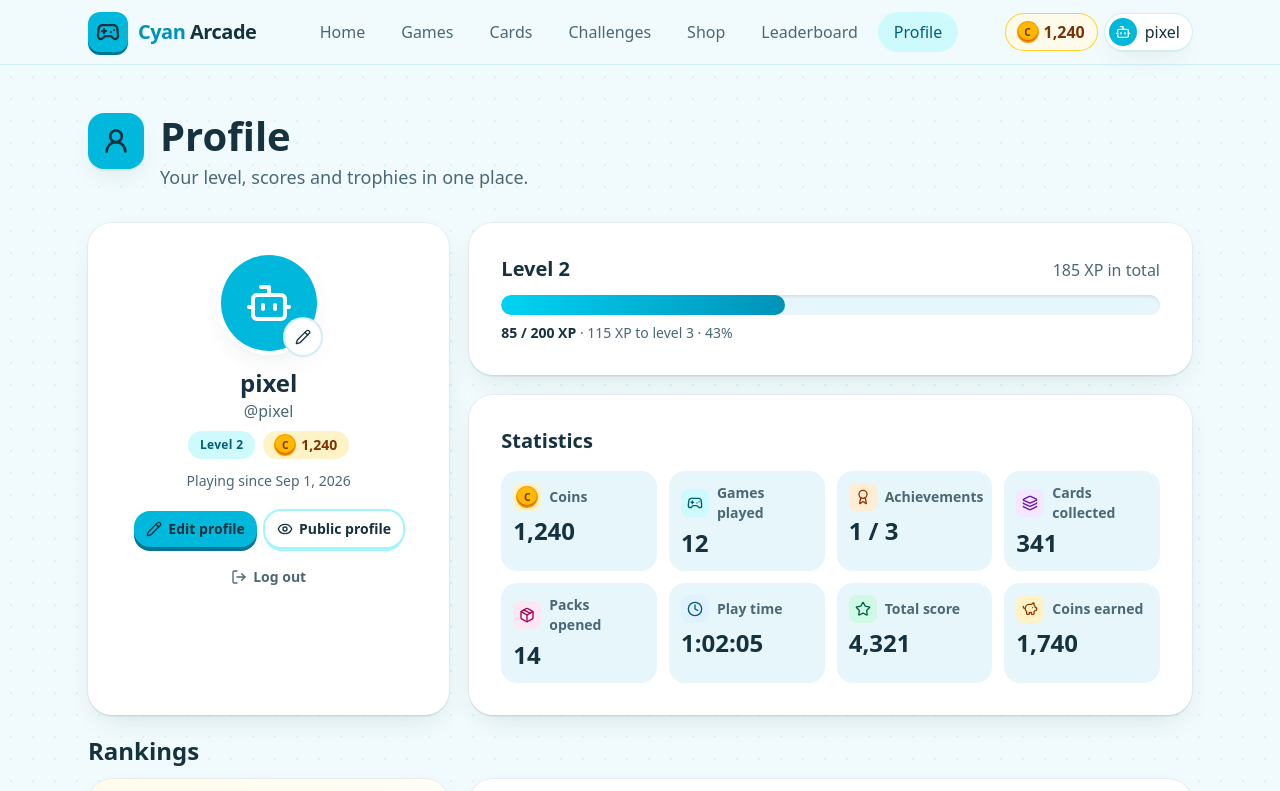
it: editing your profile › saves a new display name, bio and avatar, and the header follows
This screenshot has width=1280, height=791.
Click the button "Edit profile": (196, 529) x1=134 y1=511 x2=257 y2=547
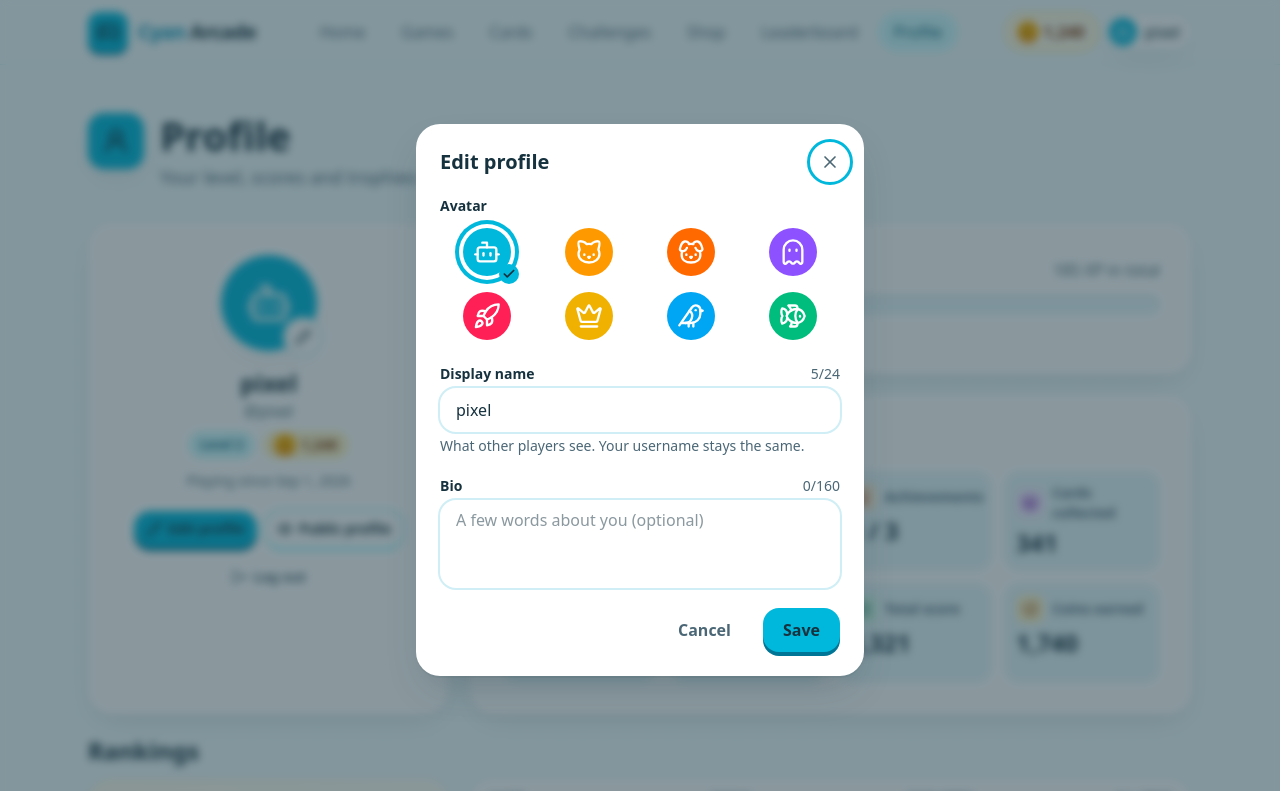
Expected: the field labelled "Display name 5/24" holds "pixel"
Replace the text in the field labelled "Display name 5/24" with "  Pixel   Pal ": (640, 410) x1=440 y1=388 x2=840 y2=432
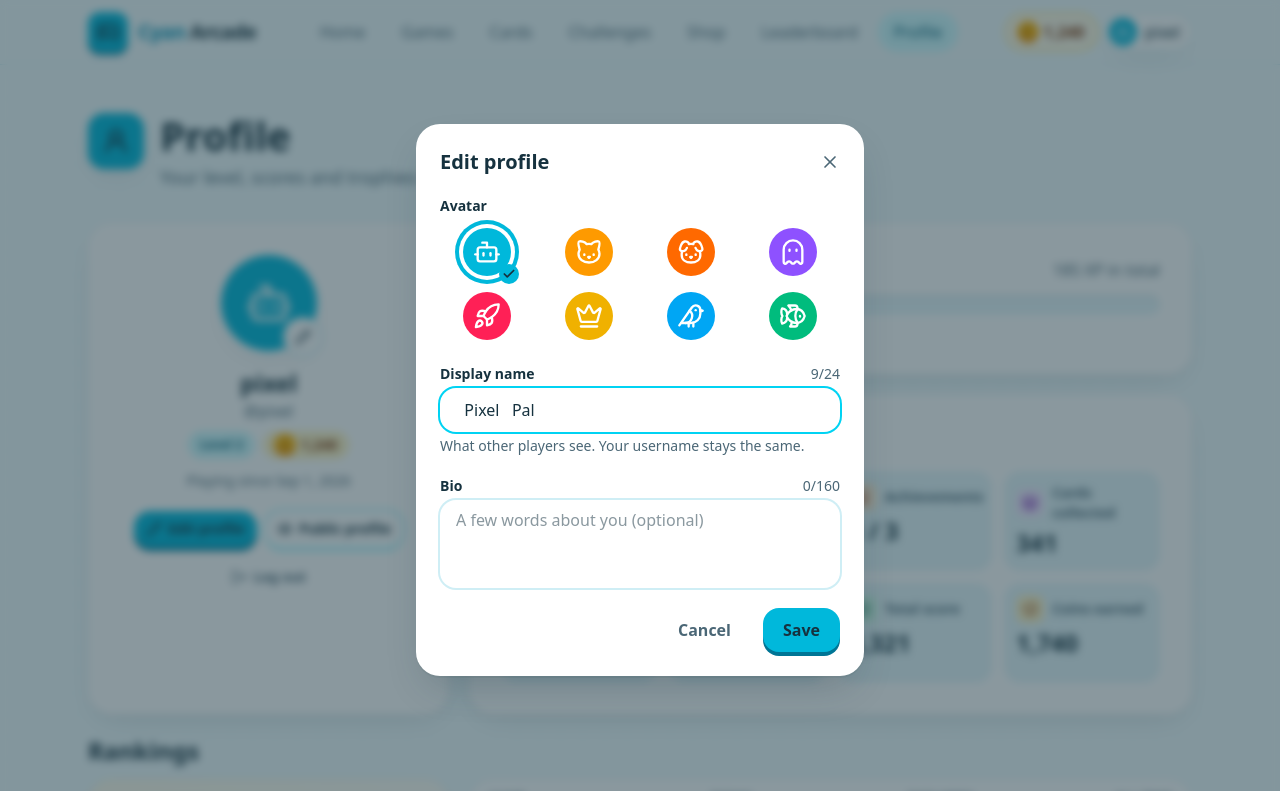
In the text box labelled "Bio 0/160": (640, 544) x1=440 y1=500 x2=840 y2=588, type "Java backend developer."
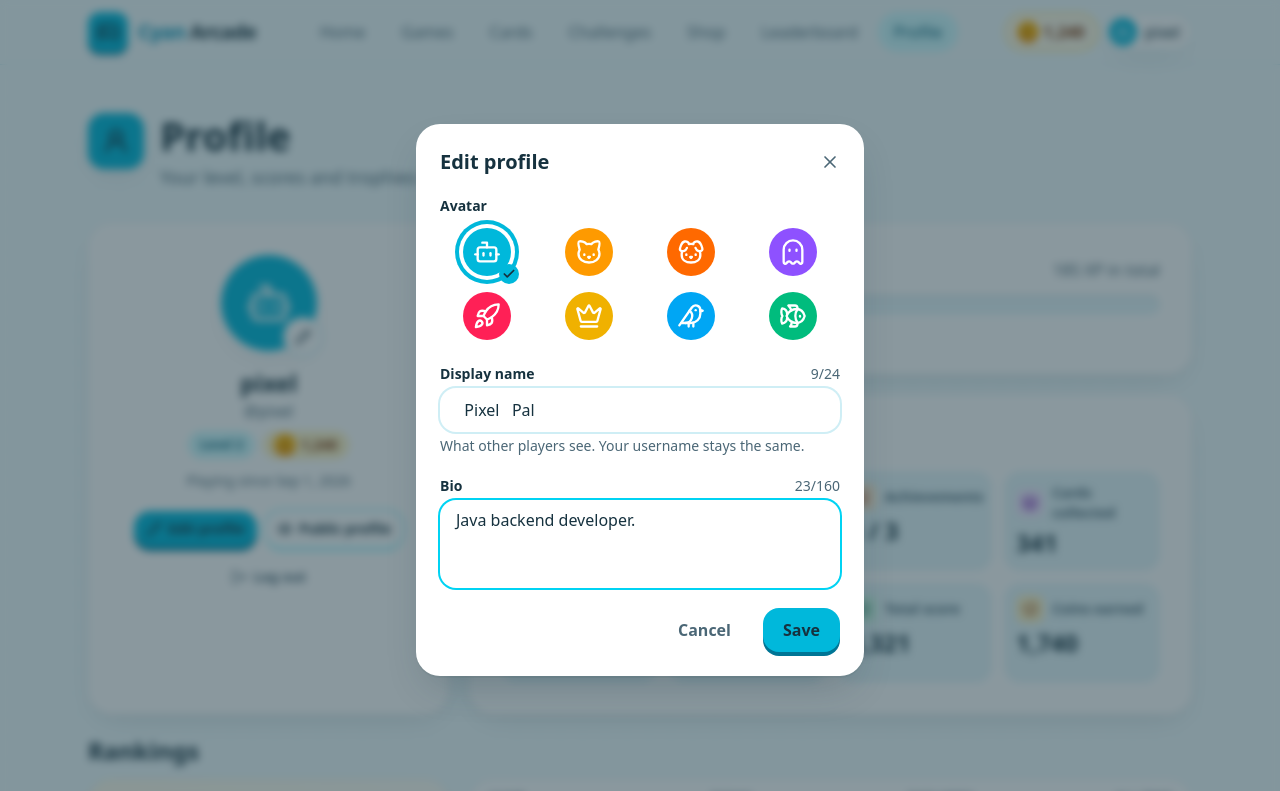
Click the button named "Ghost": (793, 252) x1=765 y1=224 x2=821 y2=280
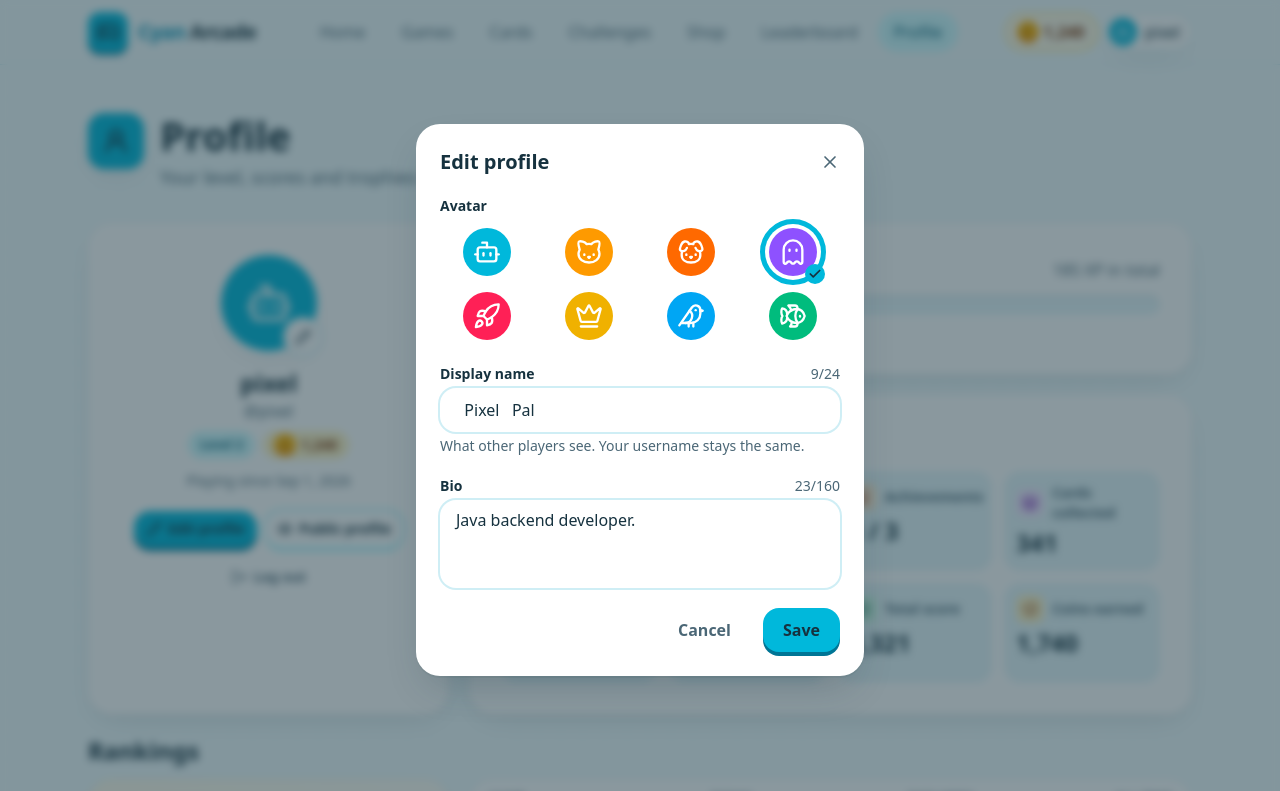
Expected: the button named "Ghost" is pressed, x1=765 y1=224 x2=821 y2=280
Click the button "Save": (802, 630) x1=763 y1=608 x2=840 y2=652
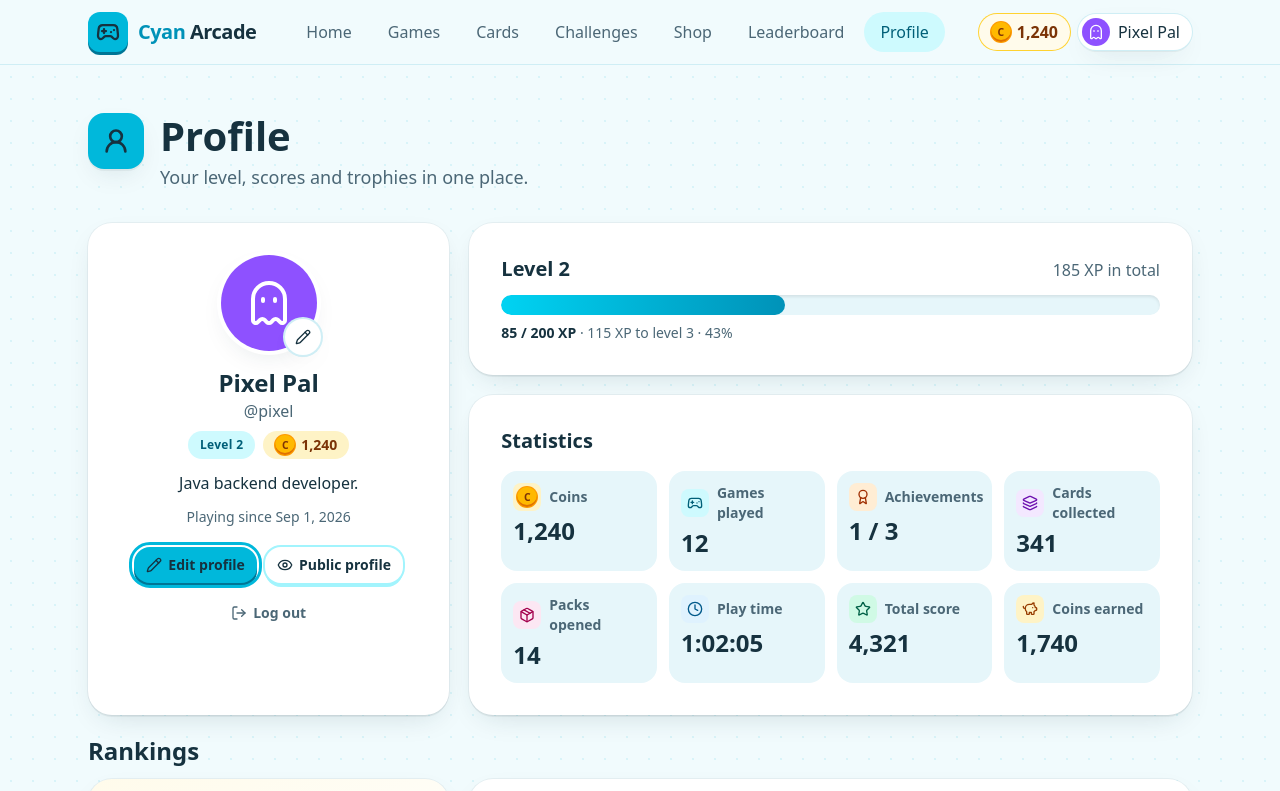
Expected: the heading "Pixel Pal" is shown, x1=218 y1=367 x2=319 y2=399
Expected: the text "Java backend developer." is shown, x1=179 y1=471 x2=358 y2=495
